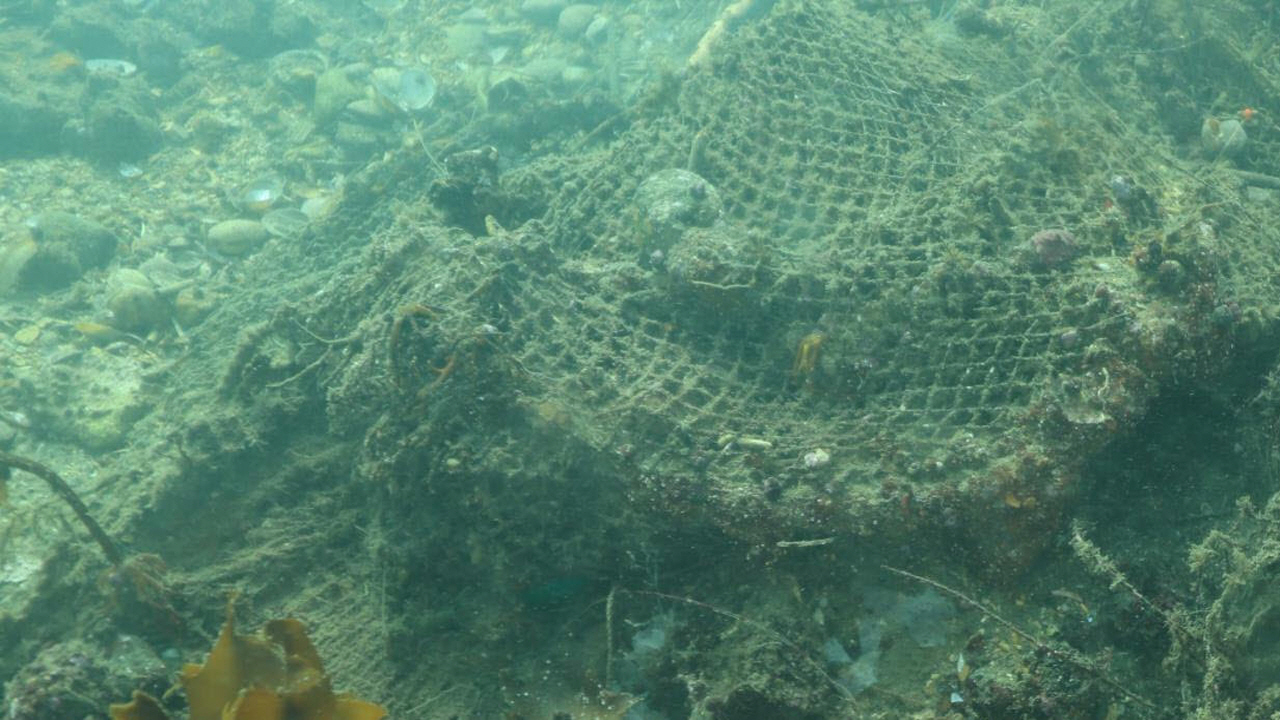fish net: (172, 0, 1280, 476)
